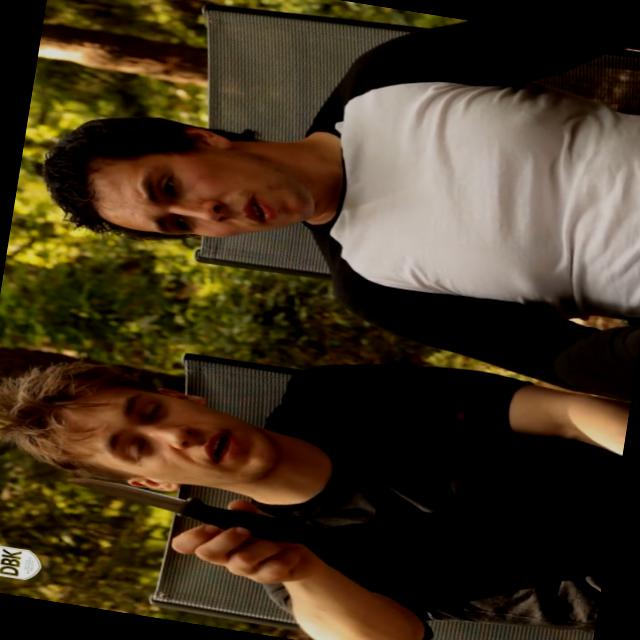knife: (48, 466, 284, 556)
